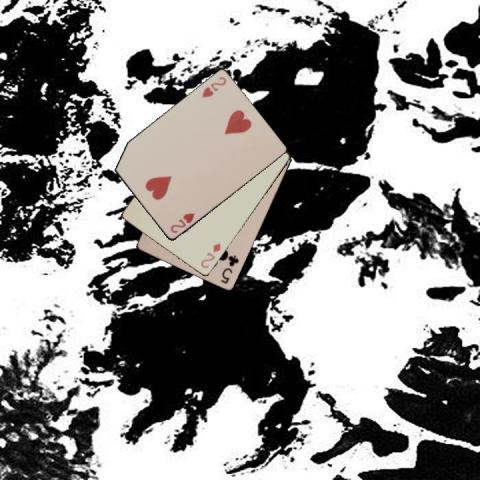2d: (198, 240, 222, 270)
2h: (167, 210, 196, 235), (199, 74, 227, 99)
5c: (217, 252, 240, 285)
